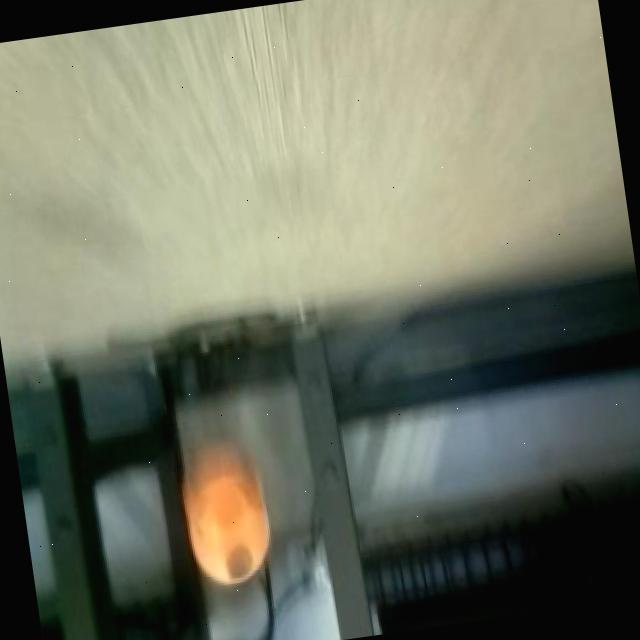ping-pong-ball: (179, 471, 282, 592)
